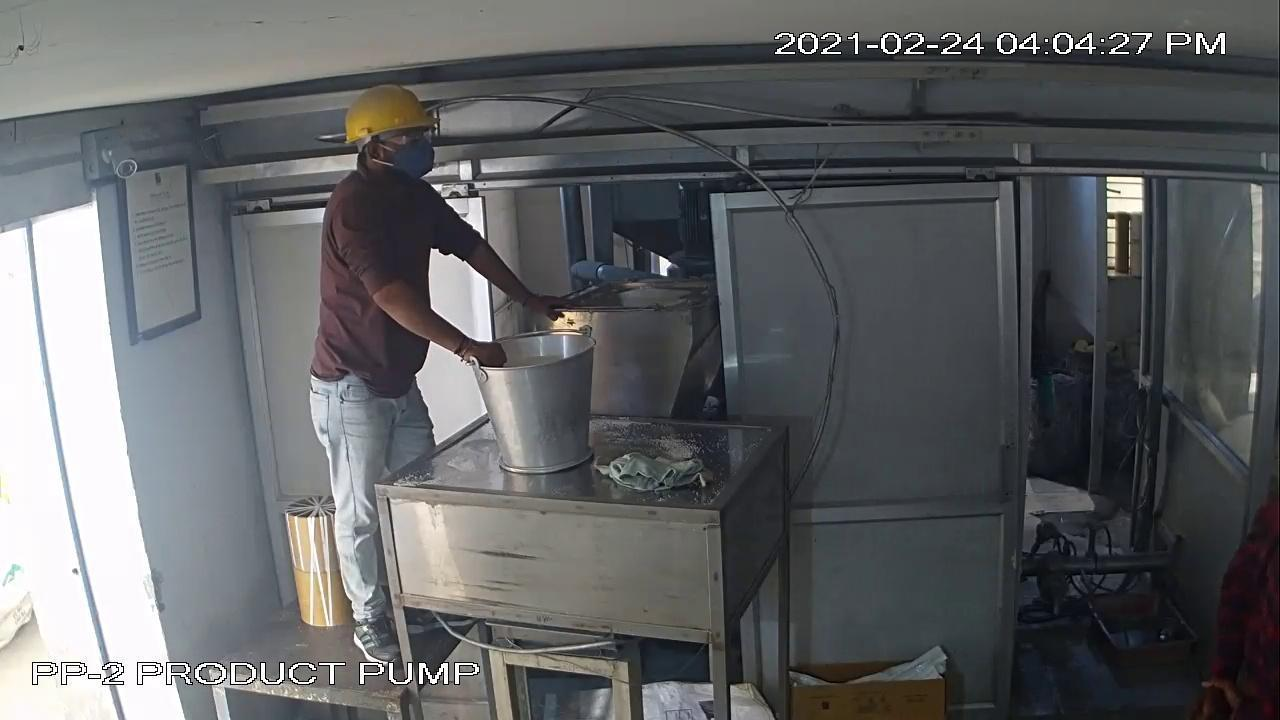helmet: (329, 82, 457, 155)
